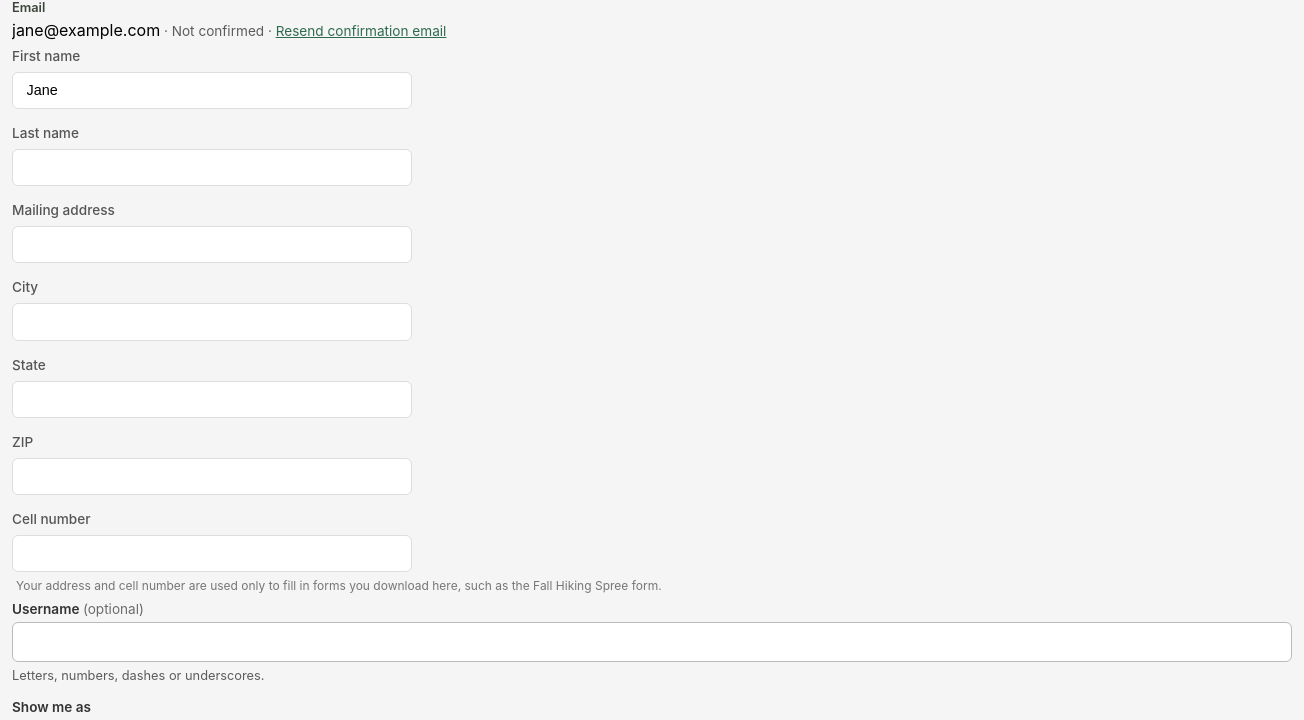
Scenario: AccountProfile › shows a quiet resend line only while the email is unconfirmed
The image size is (1304, 720).
Step 1. Click the button "Resend confirmation email" → (361, 31), box [276,23,446,39]
(page scrolled)
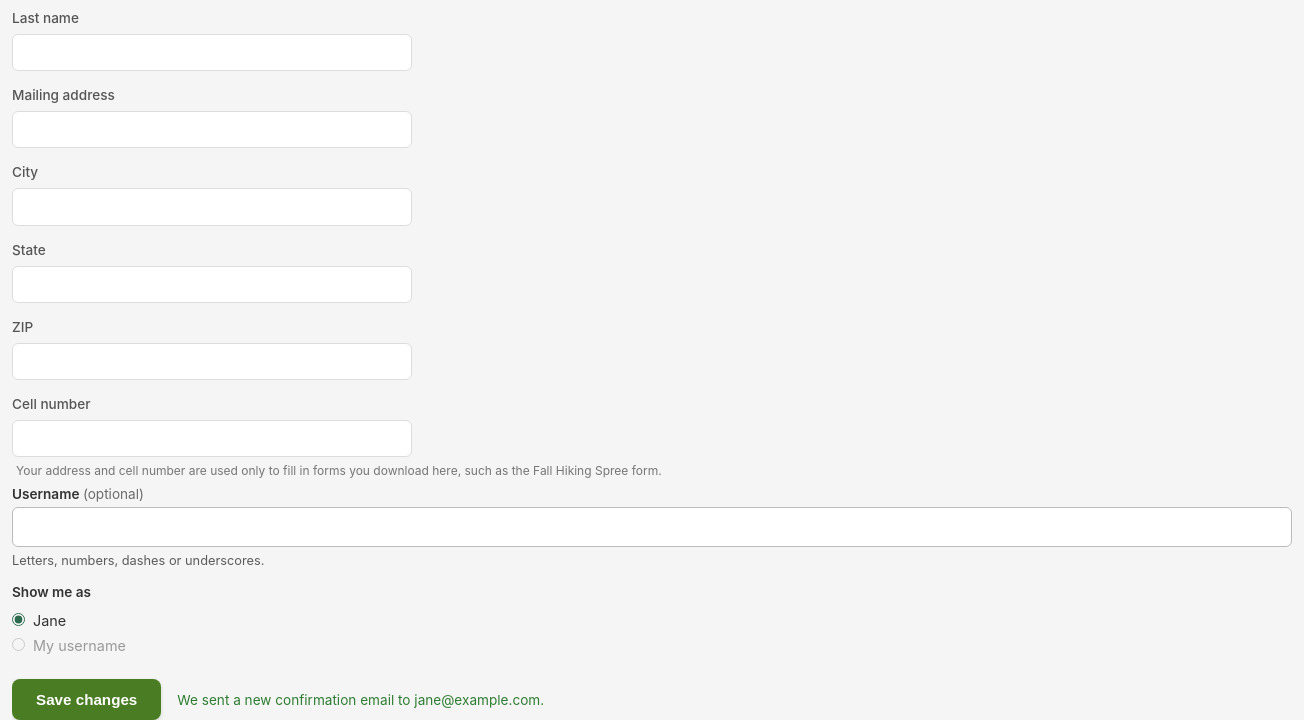
Check: the message shows "We sent a new confirmation email", box [177,692,544,708]
